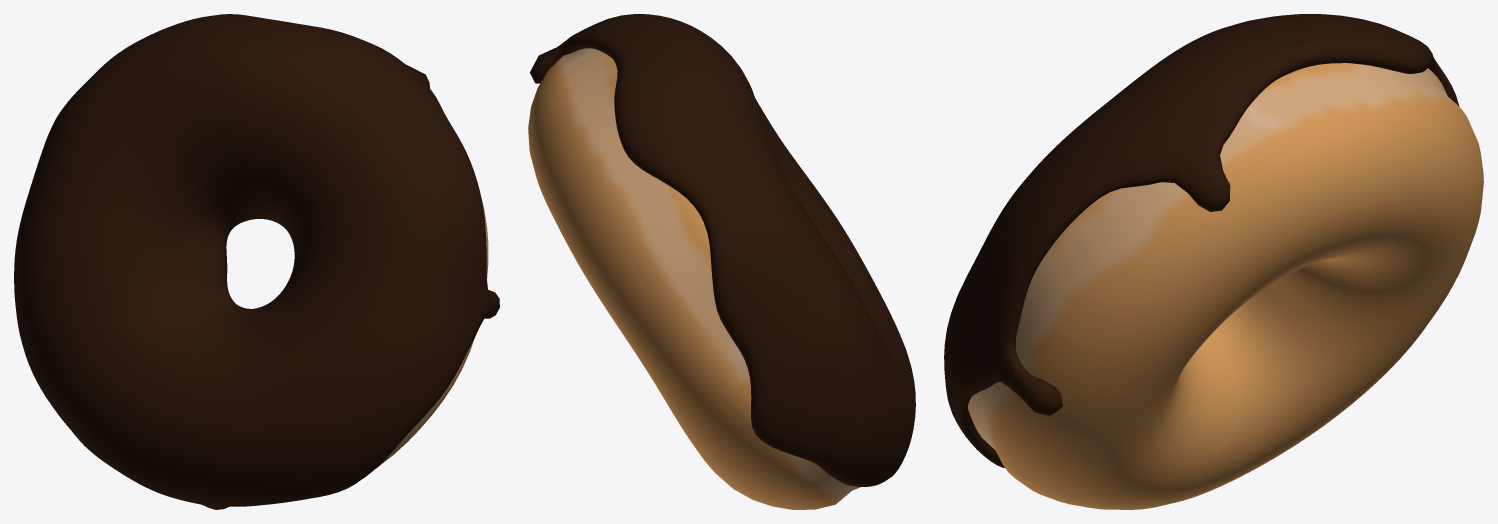
Rendered from donut.glb.
The picture shows the model from 3 angles, left to right: view 1: azimuth 30°, elevation 25°; view 2: azimuth 150°, elevation 25°; view 3: azimuth 270°, elevation 25°; orthographic projection. The views are drawn at different scales.
Visible parts, largest first — view 1: Icing, Donut; view 2: Icing, Donut; view 3: Donut, Icing.
Part boxes in pixels (x1,y1,x2,y2): Icing: [14, 14, 499, 509]; Donut: [376, 202, 488, 468]; Icing: [530, 14, 915, 486]; Donut: [528, 48, 860, 509]; Donut: [968, 63, 1483, 509]; Icing: [944, 14, 1459, 467].
Size of the model in its own units: 0.0864 by 0.0931 by 0.091.
Materials: 2 (1 with a texture image).
